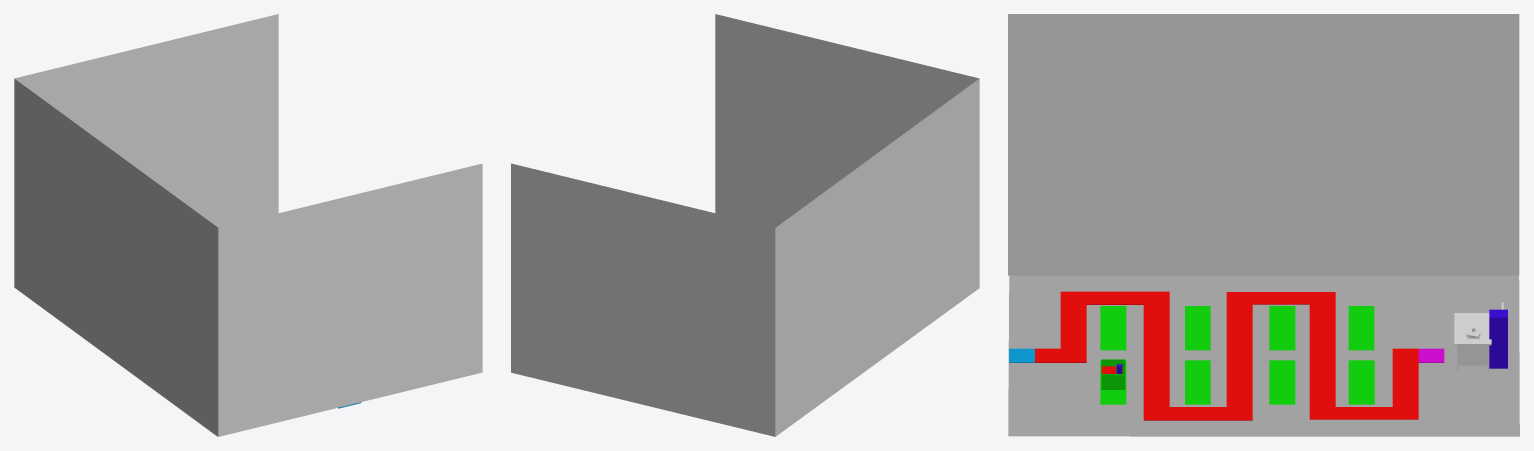
The model's file is texte te jolo 2.fbx.
3 renders of one model, left to right at view 1: azimuth 30°, elevation 25°; view 2: azimuth 150°, elevation 25°; view 3: azimuth 270°, elevation 25°, orthographic. The views are drawn at different scales.
Visible parts, largest first — view 1: Paredes; view 2: Paredes; view 3: Paredes, Chao Geral, Caminho, Area dos defensores PLACEHOLDER, Mesa del BOSS, Ref Personagem.001, Mesa dos defensores TRUE MT FODA, Area dos defensores PLACEHOLDER.001.
Part boxes in pixels (<box>): Paredes: <box>14,14,482,436</box>; Paredes: <box>511,14,979,436</box>; Paredes: <box>1008,14,1519,275</box>; Chao Geral: <box>1008,275,1519,436</box>; Caminho: <box>1035,291,1418,420</box>; Area dos defensores PLACEHOLDER: <box>1100,306,1374,404</box>; Mesa del BOSS: <box>1454,313,1491,370</box>; Ref Personagem.001: <box>1489,309,1507,368</box>; Mesa dos defensores TRUE MT FODA: <box>1101,359,1125,389</box>; Area dos defensores PLACEHOLDER.001: <box>1100,360,1126,404</box>.
Size of the model in its own units: 12232 by 9282 by 16350.
